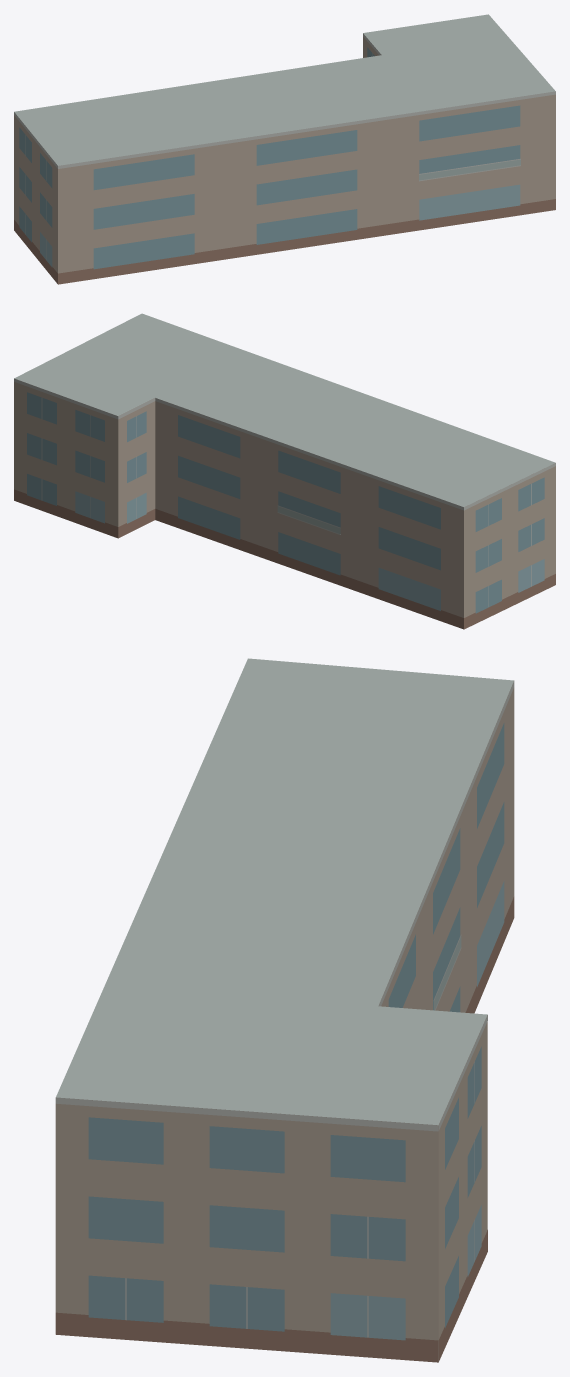
Rendered from survey-upis-32884432.glb.
3 renders of one model, top to bottom at view 1: azimuth 30°, elevation 25°; view 2: azimuth 150°, elevation 25°; view 3: azimuth 270°, elevation 25°, orthographic. The views are drawn at different scales.
Visible parts, largest first — view 1: survey-upis-32884432.tmp; view 2: survey-upis-32884432.tmp; view 3: survey-upis-32884432.tmp.
Boxes of the visible parts, x1,y1,x2,y2 form: survey-upis-32884432.tmp: (14,14,555,284); survey-upis-32884432.tmp: (14,313,555,629); survey-upis-32884432.tmp: (55,658,514,1362).
Bounding box in the file's own units: 38.61 × 9.15 × 16.03.
